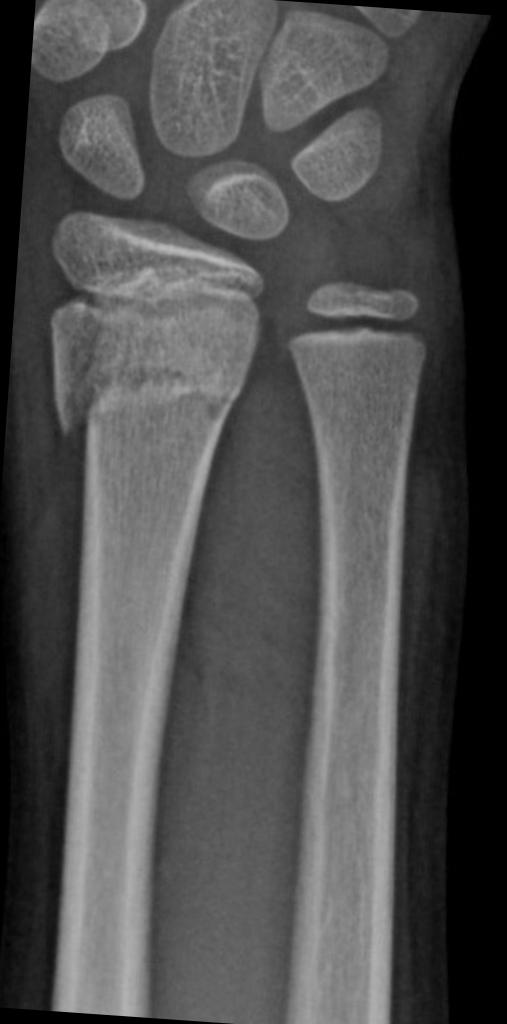line: (47, 346, 257, 462)
